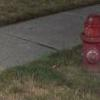Hydrant: (67, 8, 100, 88)
